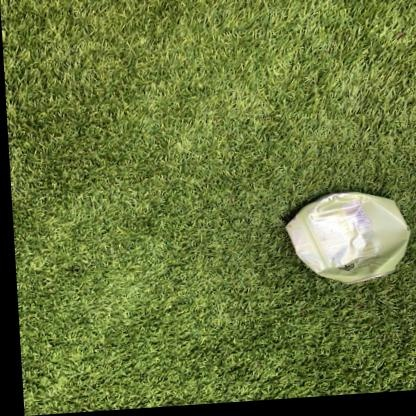trash: (286, 192, 409, 282)
